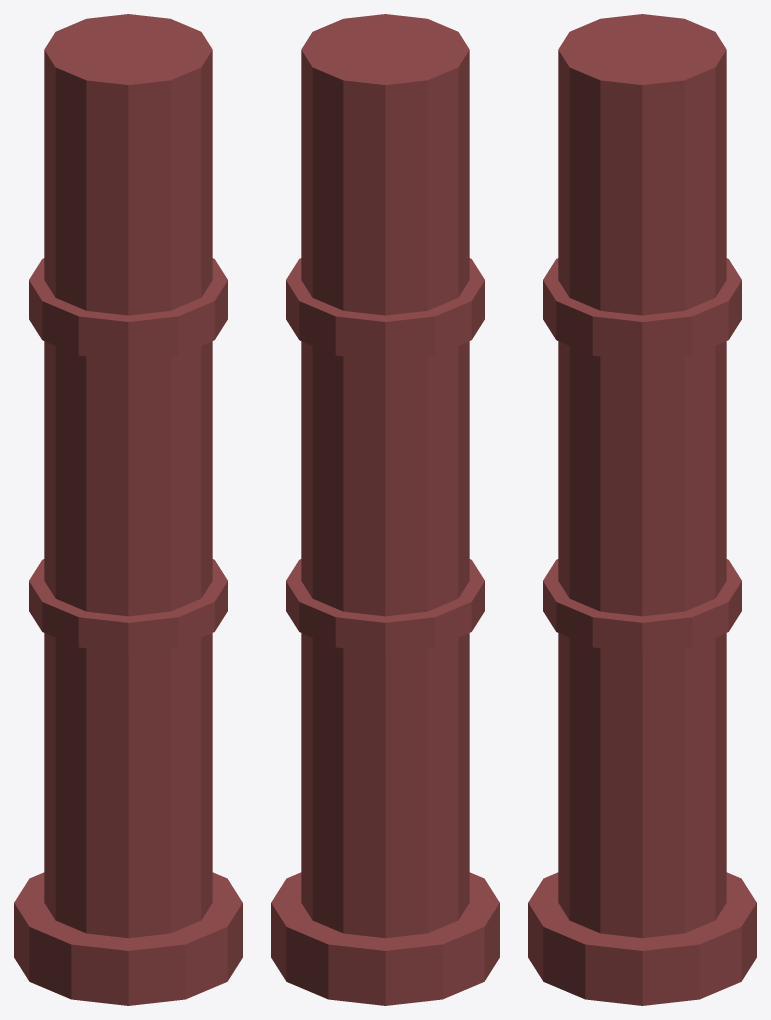
File: pipe.fbx
3 renders of one model, left to right at view 1: azimuth 30°, elevation 25°; view 2: azimuth 150°, elevation 25°; view 3: azimuth 270°, elevation 25°, orthographic.
Visible parts, largest first — view 1: pCylinder1; view 2: pCylinder1; view 3: pCylinder1.
Part boxes in pixels (x1,y1,x2,y2): pCylinder1: [14, 14, 242, 1005]; pCylinder1: [271, 14, 499, 1005]; pCylinder1: [528, 14, 756, 1005].
Bounding box in the file's own units: 38.84 × 170 × 38.84.
